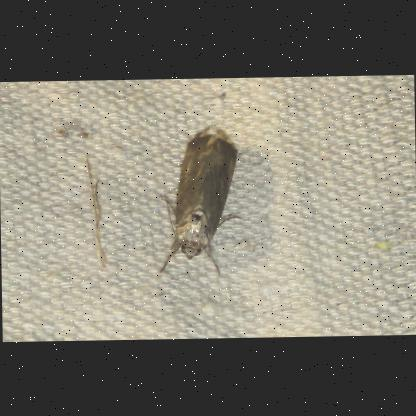Fall Armyworm Moth: (154, 131, 246, 279)
